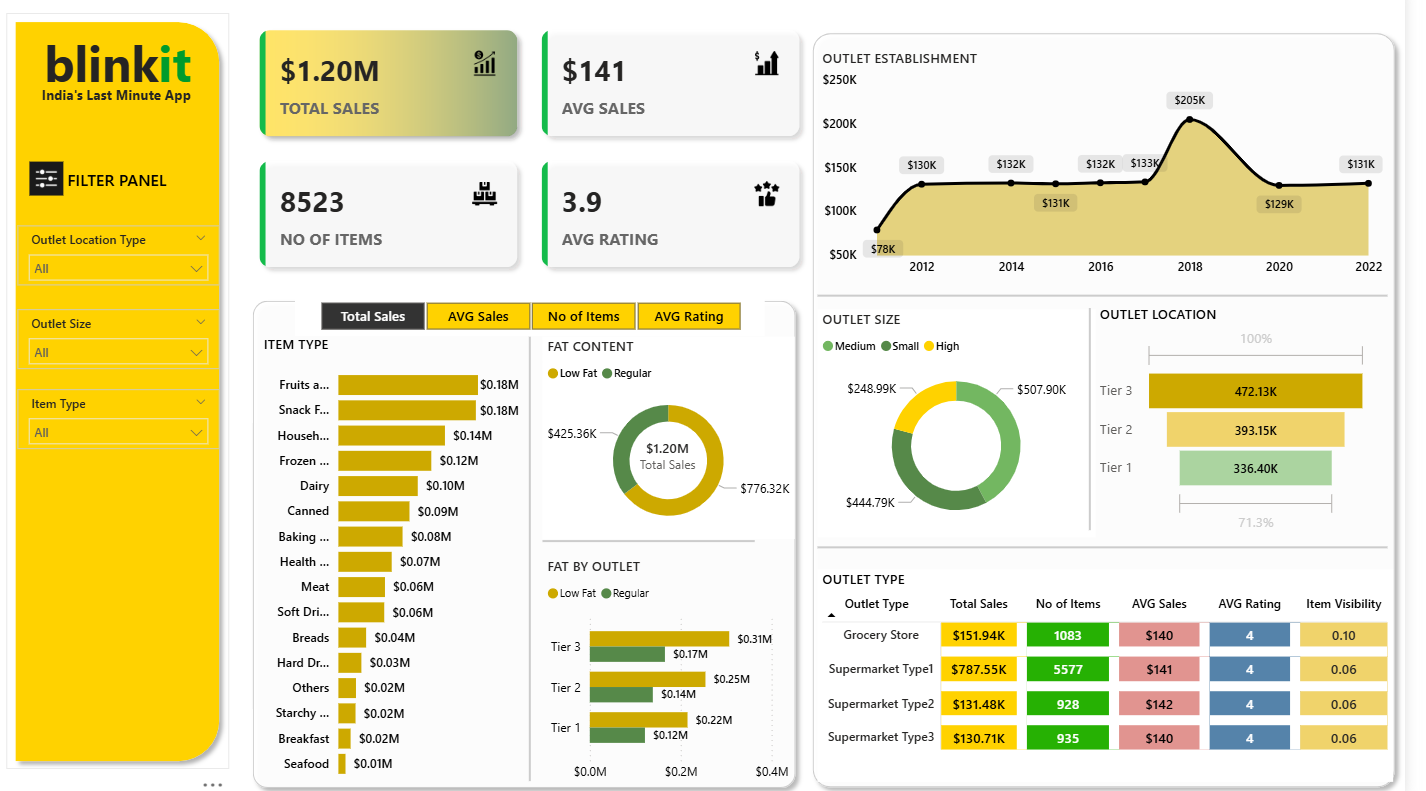

This screenshot's page, from the dashboard's own definition file:
{"tool":"powerbi","page":{"name":"Page 1","canvas":[1400,800],"ordinal":0},"visuals":[{"type":"shape","box":[16.1,24.1,219.8,749.3],"z":0},{"type":"textbox","box":[44.2,36.2,163.5,95.2],"z":1000},{"type":"textbox","box":[34.9,91.2,181,40.2],"z":2000},{"type":"cardVisual","fields":{"Data":["BlinkIT Grocery Data.Total Sales","BlinkIT Grocery Data.AVG Sales","BlinkIT Grocery Data.No of Items","BlinkIT Grocery Data.AVG Rating"]},"box":[249.3,24.1,569.7,269.4],"z":3000},{"type":"shape","box":[250.7,300.3,555,500],"z":4000},{"type":"donutChart","title":"FAT CONTENT ","fields":{"Y":["BlinkIT Grocery Data.Total Sales"],"Category":["BlinkIT Grocery Data.Item Fat Content"]},"box":[546.9,344.5,249.3,199.7],"z":5000},{"type":"slicer","fields":{"Values":["Metrics.Metrics"]},"box":[301.6,304.3,465.1,40.2],"z":6000},{"type":"cardVisual","fields":{"Data":["BlinkIT Grocery Data.Total Sales"]},"box":[622,429,97.9,65.7],"z":7000},{"type":"clusteredBarChart","title":"FAT BY OUTLET","fields":{"Y":["BlinkIT Grocery Data.Total Sales"],"Category":["BlinkIT Grocery Data.Outlet Location Type"],"Series":["BlinkIT Grocery Data.Item Fat Content"]},"box":[546.9,563,249.3,230.6],"z":8000},{"type":"shape","box":[546.9,532.2,210,30.8],"z":9000},{"type":"shape","box":[528.2,344.5,12.1,439.7],"z":10000},{"type":"barChart","title":"ITEM TYPE","fields":{"Y":["BlinkIT Grocery Data.Total Sales"],"Category":["BlinkIT Grocery Data.Item Type"]},"box":[265.4,343.2,262.7,450.4],"z":11000},{"type":"shape","box":[805.6,36.2,593.8,764.1],"z":12000},{"type":"lineChart","title":"OUTLET ESTABLISHMENT","fields":{"Y":["BlinkIT Grocery Data.Total Sales"],"Category":["BlinkIT Grocery Data.Outlet Establishment Year"]},"box":[819,59,564.3,234.6],"z":13000},{"type":"shape","box":[819,294.9,564.3,20.1],"z":14000},{"type":"donutChart","title":"OUTLET SIZE","fields":{"Y":["BlinkIT Grocery Data.Total Sales"],"Category":["BlinkIT Grocery Data.Outlet Size"]},"box":[819,317.7,274.8,225.2],"z":15000},{"type":"shape","box":[1081.8,316.4,12.1,219.8],"z":16000},{"type":"funnel","title":"OUTLET LOCATION","fields":{"Category":["BlinkIT Grocery Data.Outlet Location Type"],"Y":["Sum(BlinkIT Grocery Data.Sales)"]},"box":[1093.8,312.3,274.8,230.6],"z":17000},{"type":"pivotTable","title":"OUTLET TYPE ","fields":{"Rows":["BlinkIT Grocery Data.Outlet Type"],"Values":["BlinkIT Grocery Data.Total Sales","BlinkIT Grocery Data.No of Items","BlinkIT Grocery Data.AVG Sales","BlinkIT Grocery Data.AVG Rating","Avg(BlinkIT Grocery Data.Item Visibility)"]},"box":[819,575.1,569.7,210.5],"z":18000},{"type":"shape","box":[819,537.5,564.3,30.8],"z":19000},{"type":"slicer","fields":{"Values":["BlinkIT Grocery Data.Outlet Location Type"]},"box":[26.8,234.6,199.7,59],"z":20000},{"type":"slicer","fields":{"Values":["BlinkIT Grocery Data.Outlet Size"]},"box":[26.8,317.7,199.7,59],"z":21000},{"type":"slicer","fields":{"Values":["BlinkIT Grocery Data.Item Type"]},"box":[26.8,396.8,199.7,59],"z":22000},{"type":"shape","box":[50.9,159.5,150.1,59],"z":23000},{"type":"image","box":[33.3,166.7,45,43.3],"z":24001}]}

Visuals, with their boxes on the page's 1400x800 design canvas (x1, y1, x2, y2). These are canvas units, not pixel positions in the 1426x791 screenshot, which may show the page scaled, cropped or inside an application window:
shape: 16, 24, 236, 773
textbox: 44, 36, 208, 131
textbox: 35, 91, 216, 131
cardVisual - BlinkIT Grocery Data.Total Sales x BlinkIT Grocery Data.AVG Sales: 249, 24, 819, 294
shape: 251, 300, 806, 800
"FAT CONTENT " donutChart: 547, 344, 796, 544
slicer - Metrics.Metrics: 302, 304, 767, 344
cardVisual - BlinkIT Grocery Data.Total Sales: 622, 429, 720, 495
"FAT BY OUTLET" clusteredBarChart: 547, 563, 796, 794
shape: 547, 532, 757, 563
shape: 528, 344, 540, 784
"ITEM TYPE" barChart: 265, 343, 528, 794
shape: 806, 36, 1399, 800
"OUTLET ESTABLISHMENT" lineChart: 819, 59, 1383, 294
shape: 819, 295, 1383, 315
"OUTLET SIZE" donutChart: 819, 318, 1094, 543
shape: 1082, 316, 1094, 536
"OUTLET LOCATION" funnel: 1094, 312, 1369, 543
"OUTLET TYPE " pivotTable: 819, 575, 1389, 786
shape: 819, 538, 1383, 568
slicer - BlinkIT Grocery Data.Outlet Location Type: 27, 235, 226, 294
slicer - BlinkIT Grocery Data.Outlet Size: 27, 318, 226, 377
slicer - BlinkIT Grocery Data.Item Type: 27, 397, 226, 456
shape: 51, 160, 201, 218
image: 33, 167, 78, 210
